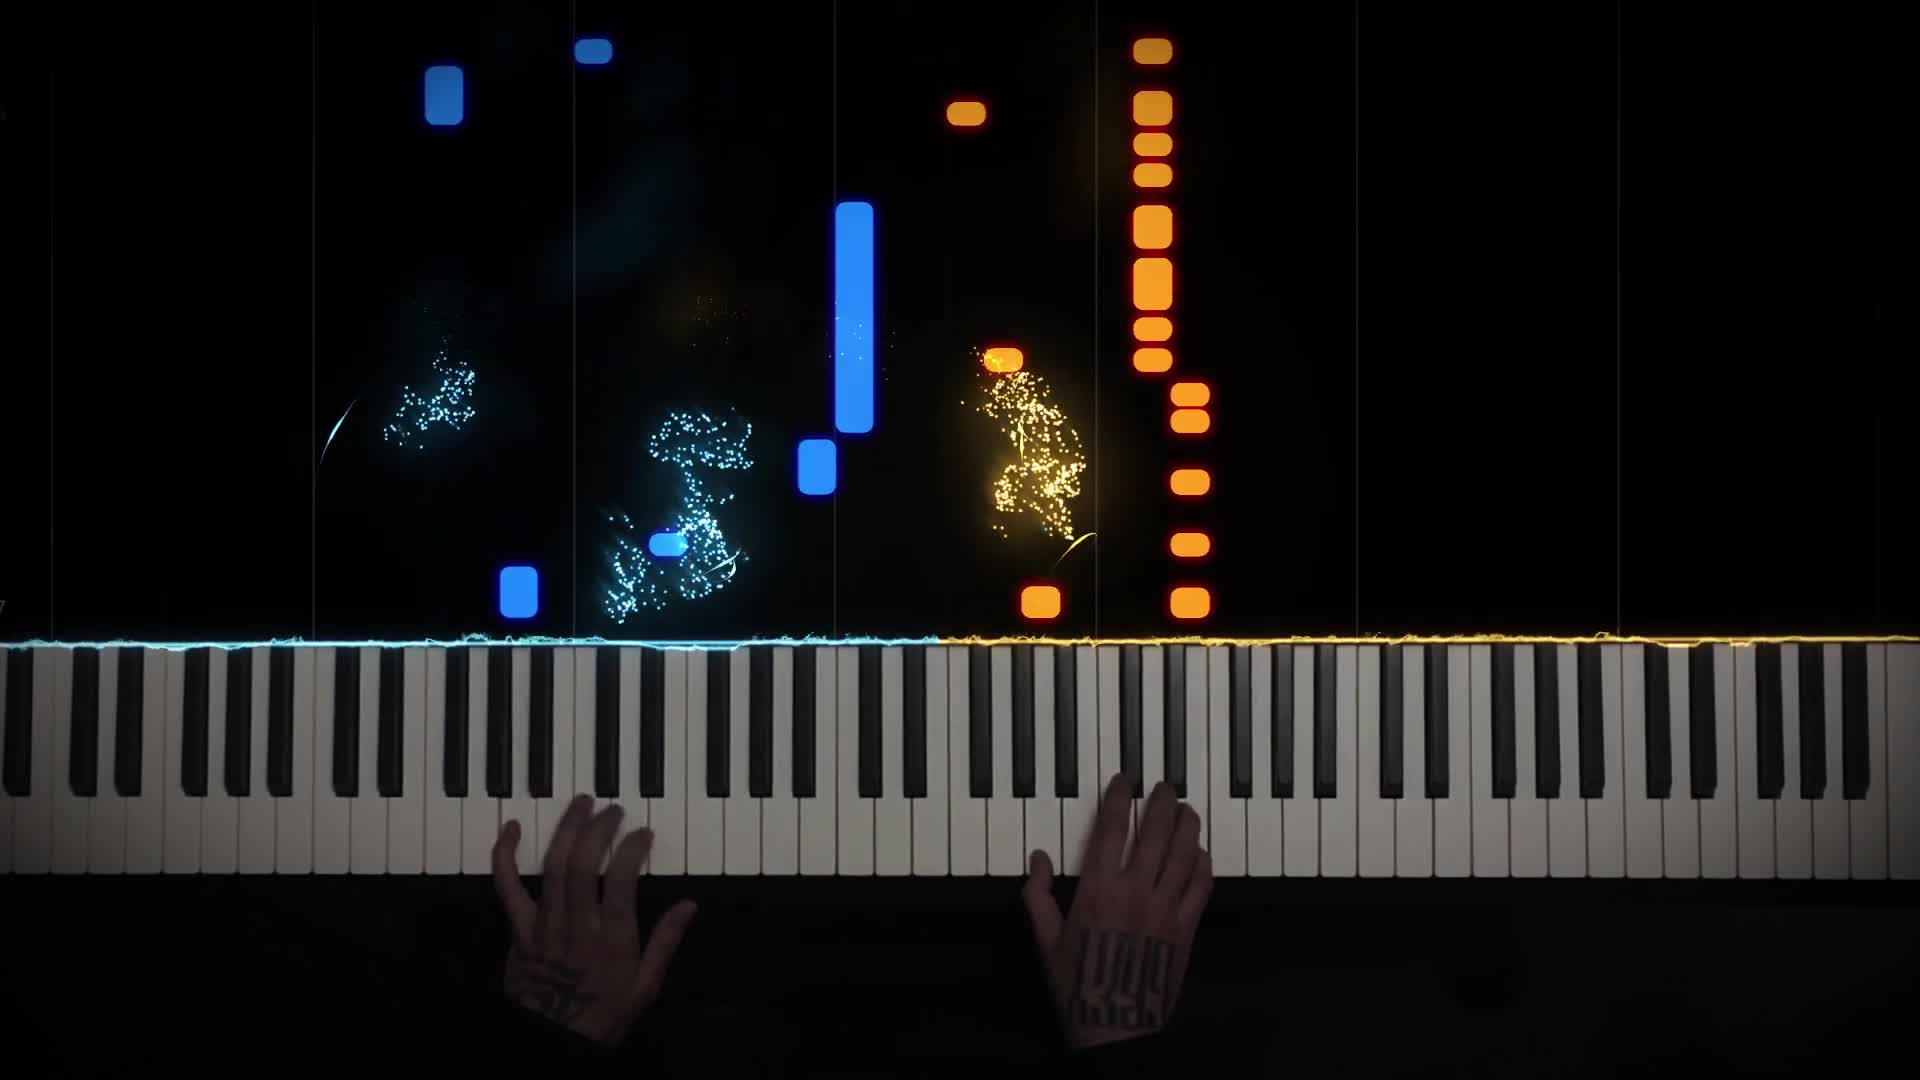left: (492, 787, 694, 1050)
right: (1023, 774, 1217, 1047)
